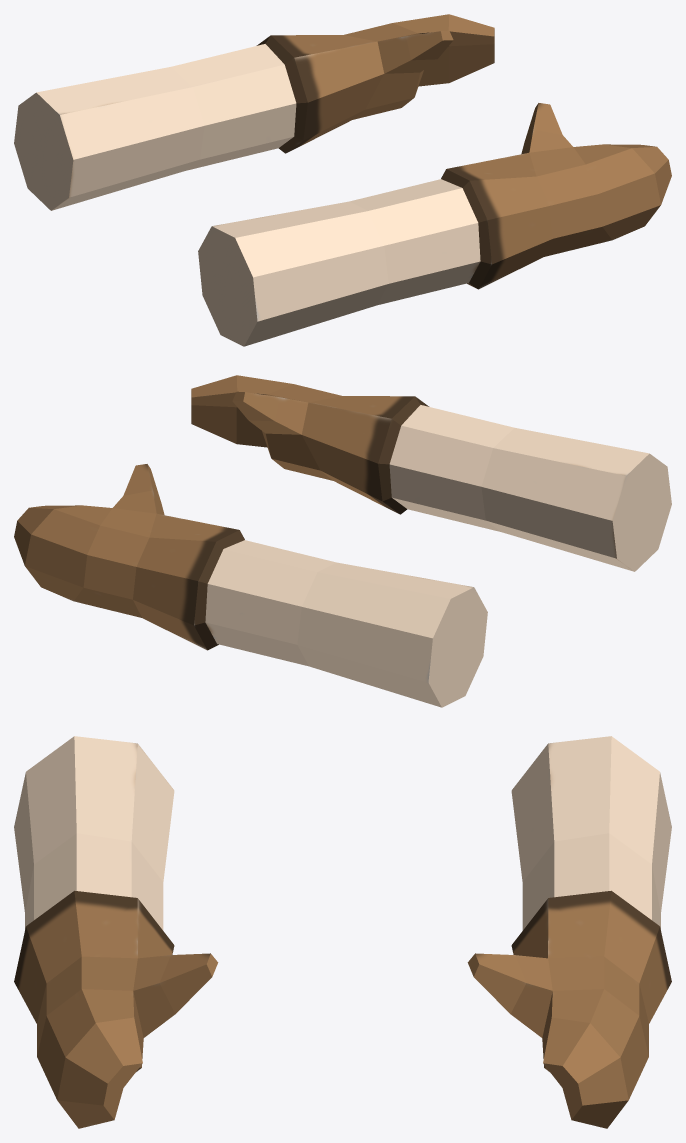
Rendered from hands.fbx.
3 views of the same model, one above another, from view 1: azimuth 30°, elevation 25°; view 2: azimuth 150°, elevation 25°; view 3: azimuth 270°, elevation 25° (orthographic). The views are drawn at different scales.
Visible parts, largest first — view 1: Cube; view 2: Cube; view 3: Cube.
Boxes of the visible parts, x1=… form: Cube: x1=14, y1=14, x2=671, y2=346; Cube: x1=14, y1=375, x2=671, y2=707; Cube: x1=14, y1=736, x2=671, y2=1128.
Bounding box in the file's own units: 502 × 128 × 473.
